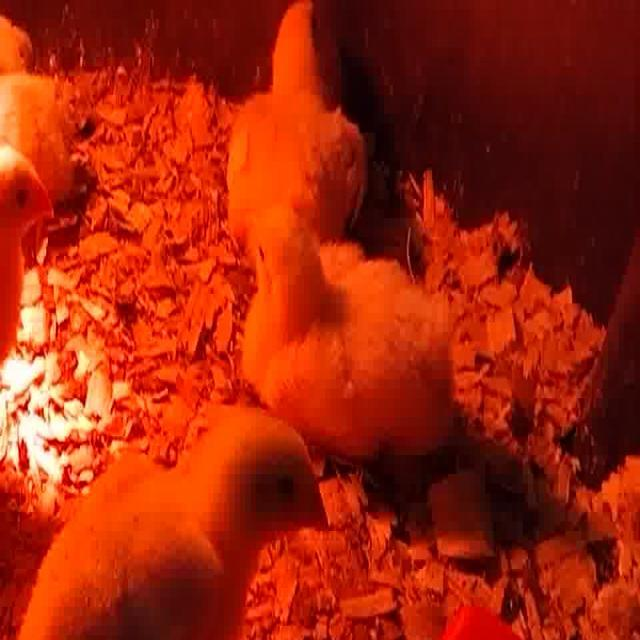poussin: (30, 412, 335, 640), (244, 213, 482, 461), (237, 0, 370, 234), (0, 5, 95, 204), (0, 153, 74, 365)
